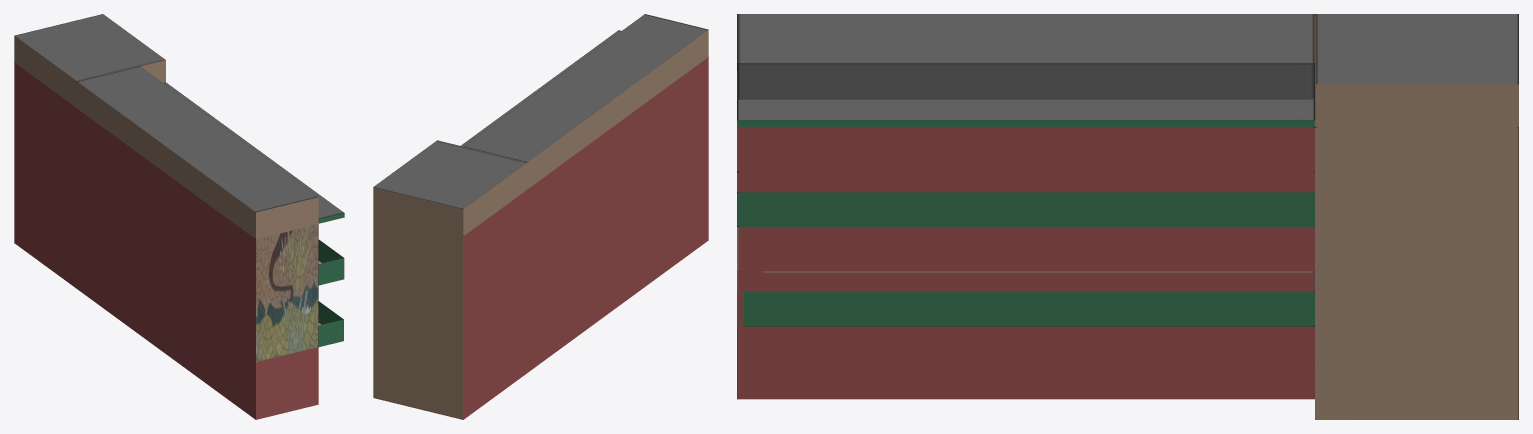
Rendered from aulas.obj.
3 renders of one model, left to right at view 1: azimuth 30°, elevation 25°; view 2: azimuth 150°, elevation 25°; view 3: azimuth 270°, elevation 25°, orthographic. The views are drawn at different scales.
Parts seen in each view (by area): view 1: Cube; view 2: Cube; view 3: Cube.
Part boxes in pixels (x1,y1,x2,y2): Cube: (14,14,344,419); Cube: (373,14,708,419); Cube: (737,14,1518,419).
Size of the model in its own units: 2.82 by 6.3 by 13.28.
1 material, 1 textured.
